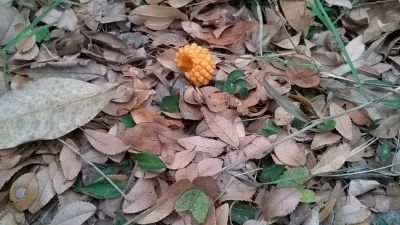eggs: (174, 42, 216, 85)
